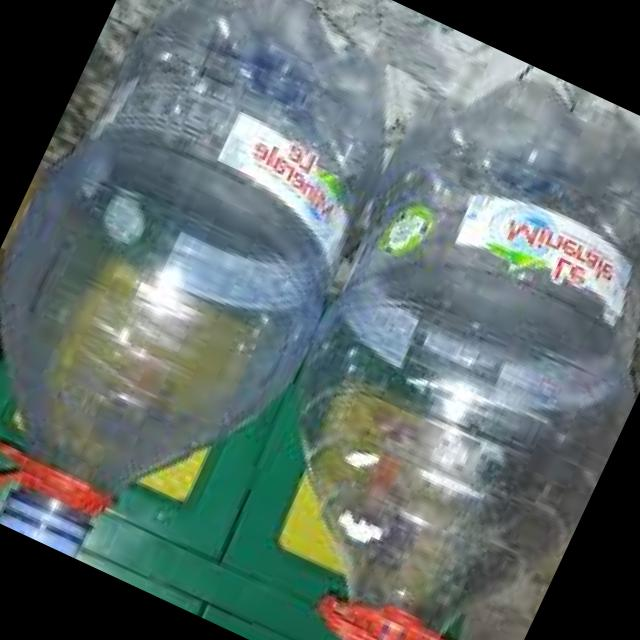Galon: (180, 33, 640, 640), (0, 0, 440, 610)
